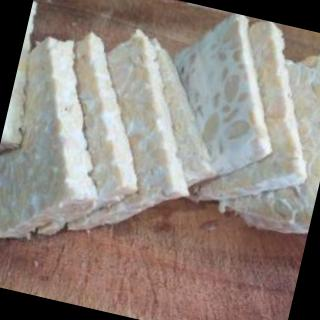Tempe: (1, 1, 320, 307)
